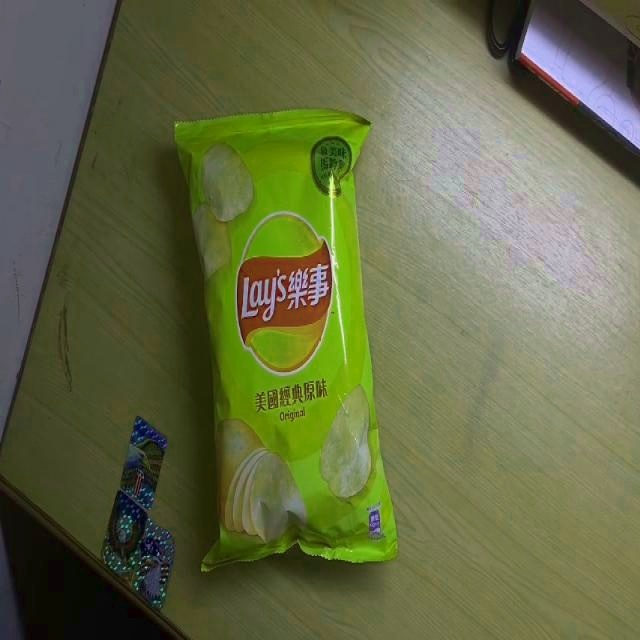Lay-s-original: (173, 107, 400, 579)
